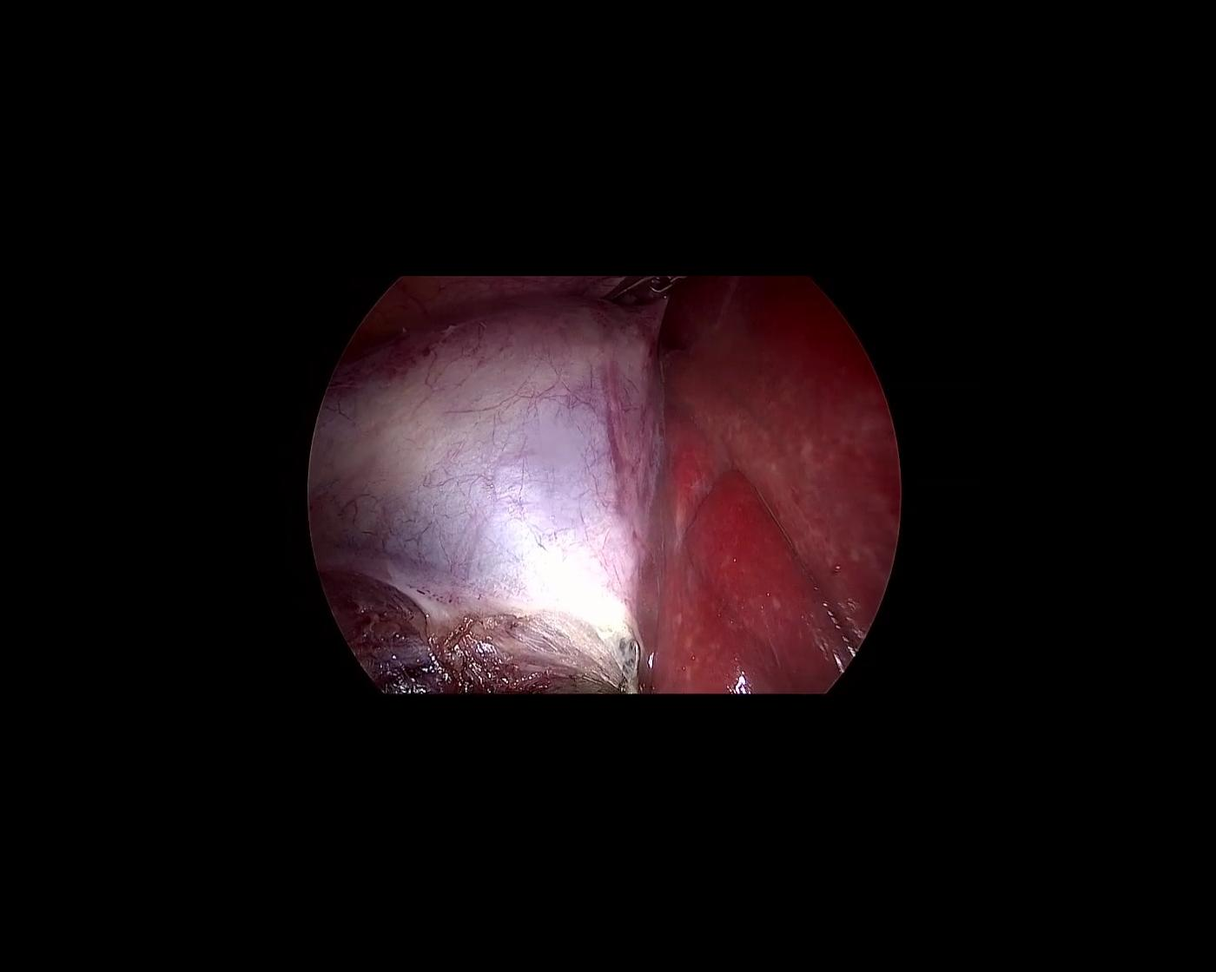Gallbladder: (302, 271, 670, 627)
Liver: (635, 268, 912, 706)
